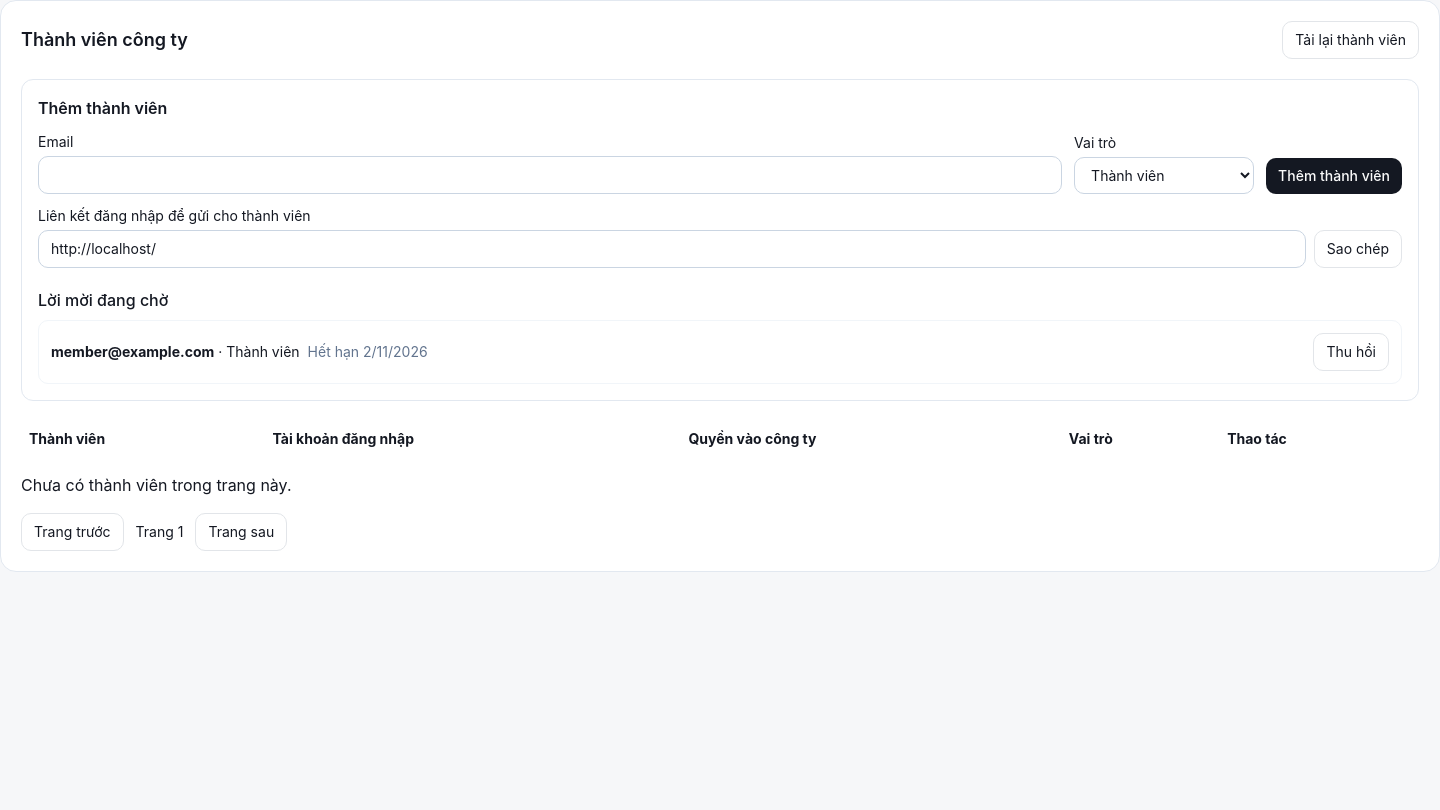
it: creates a Vietnamese role invitation and reloads the pending list
Expected: the text "member@example.com" is shown, x1=51 y1=343 x2=214 y2=360
In the field named "Email thành viên": (550, 175) x1=38 y1=156 x2=1062 y2=194, type "new@example.com"
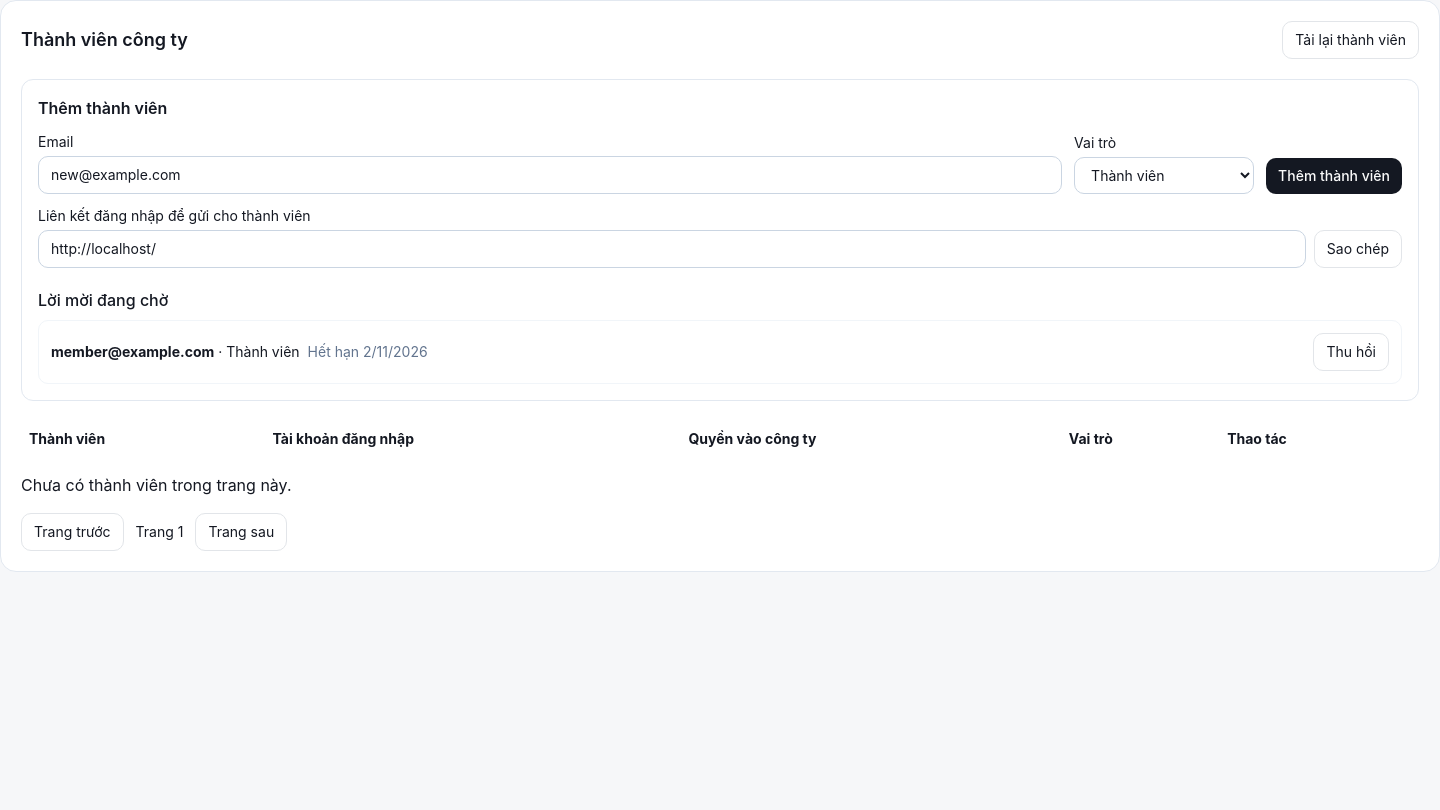
Select "Quản trị viên" in the dropdown named "Vai trò lời mời": (1164, 176) x1=1074 y1=157 x2=1254 y2=194
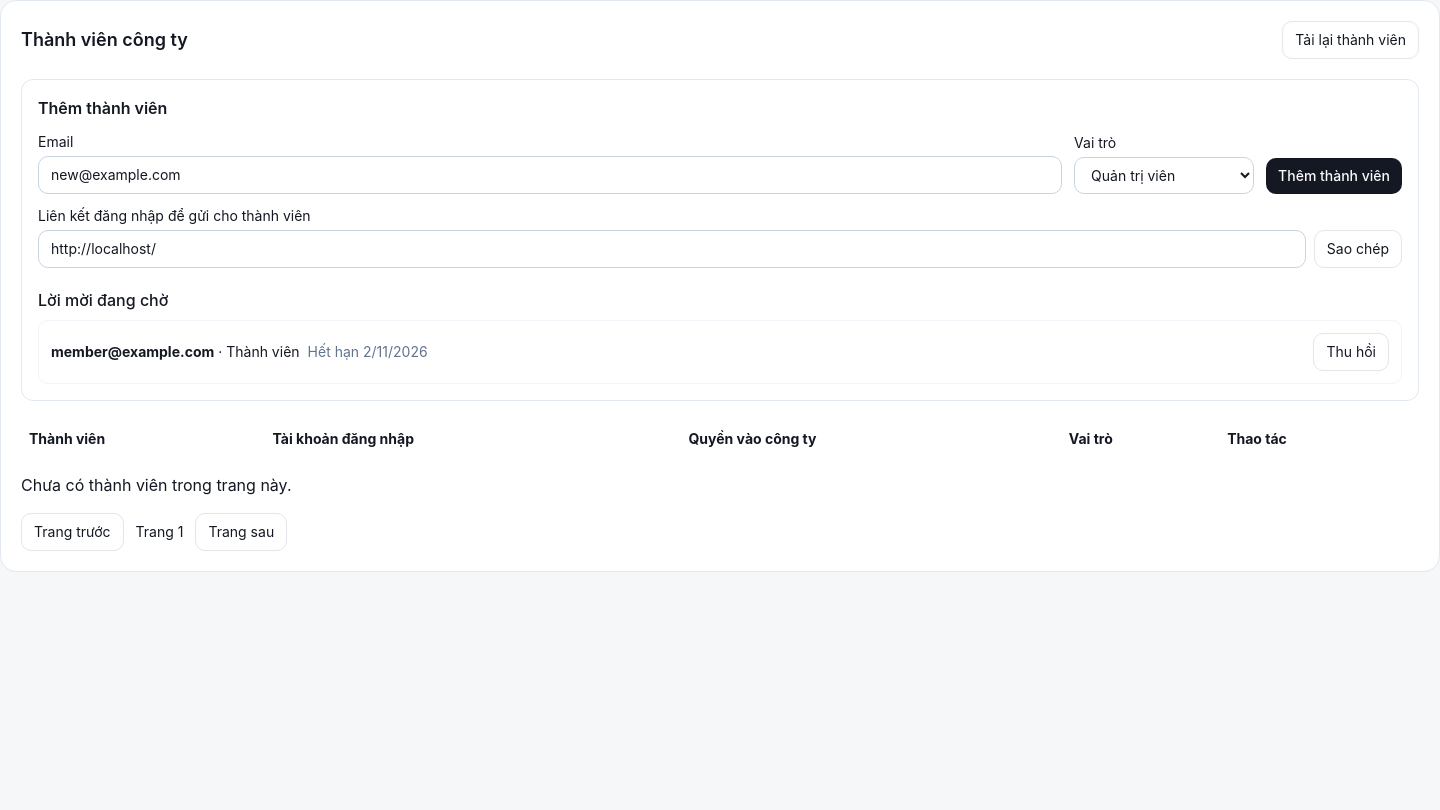
Click the button "Thêm thành viên": (1334, 176) x1=1266 y1=158 x2=1402 y2=194
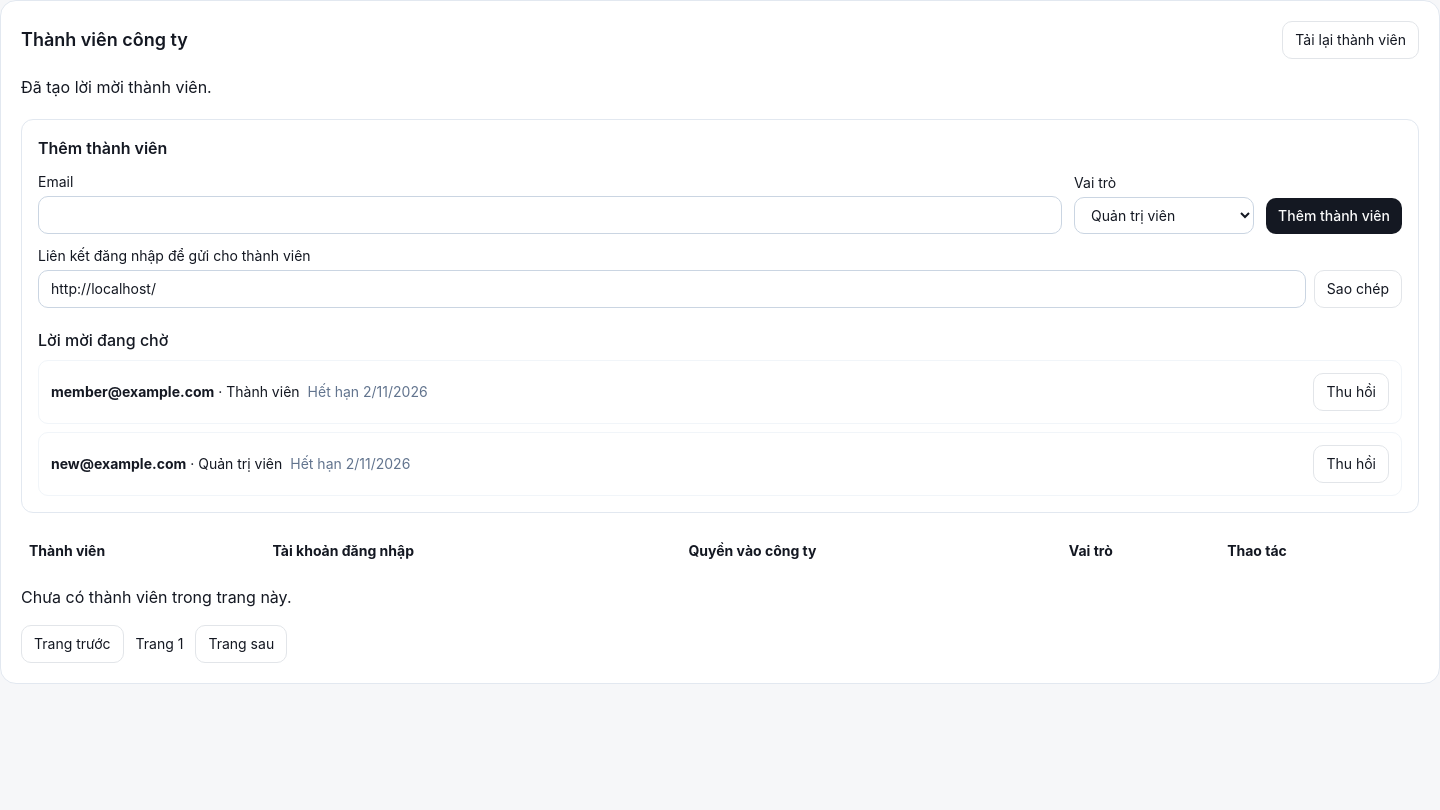
Expected: the text "Đã tạo lời mời thành viên." is shown, x1=21 y1=77 x2=212 y2=97
Expected: the text "new@example.com" is shown, x1=51 y1=455 x2=186 y2=472
